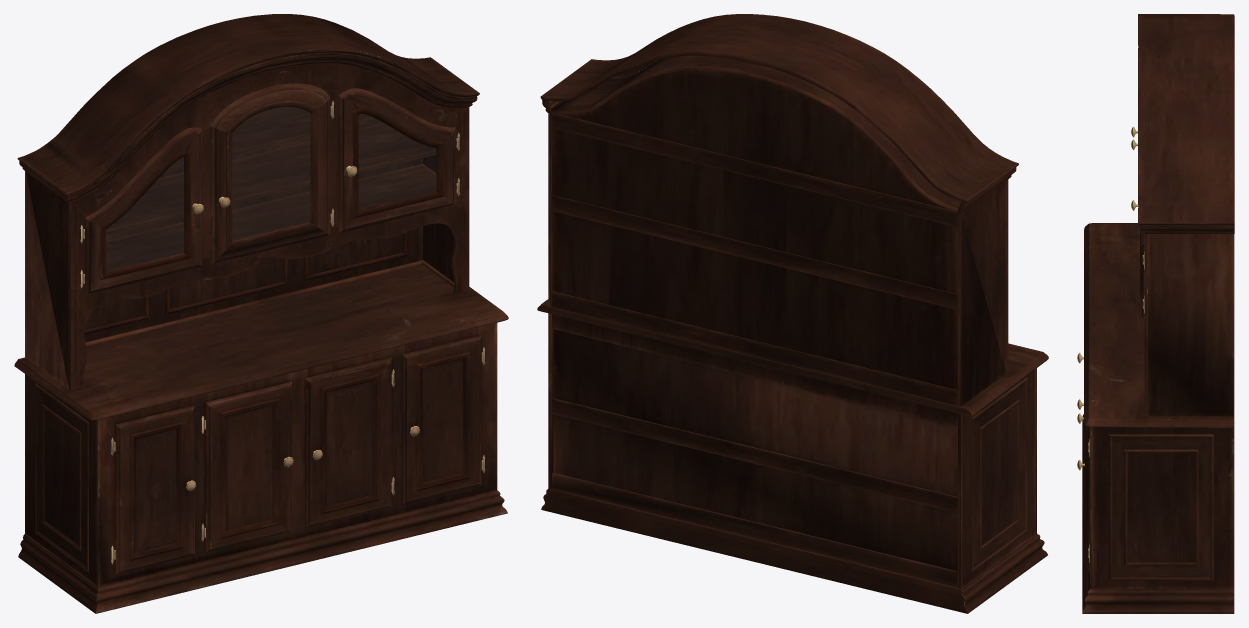
File: cabinet_vintage.glb
The picture shows the model from 3 angles, left to right: view 1: azimuth 30°, elevation 25°; view 2: azimuth 150°, elevation 25°; view 3: azimuth 270°, elevation 25°; orthographic projection. The views are drawn at different scales.
Visible parts, largest first — view 1: vintage_cabinet_01_body, vintage_cabinet_01_door_01; view 2: vintage_cabinet_01_body; view 3: vintage_cabinet_01_body.
Boxes of the visible parts, x1,y1,x2,y2 form: vintage_cabinet_01_body: (14, 14, 508, 613); vintage_cabinet_01_door_01: (106, 107, 436, 271); vintage_cabinet_01_body: (537, 14, 1048, 613); vintage_cabinet_01_body: (1077, 14, 1234, 613).
Bounding box in the file's own units: 2.02 × 2.24 × 0.6699.
Materials: 3 (2 with a texture image).
